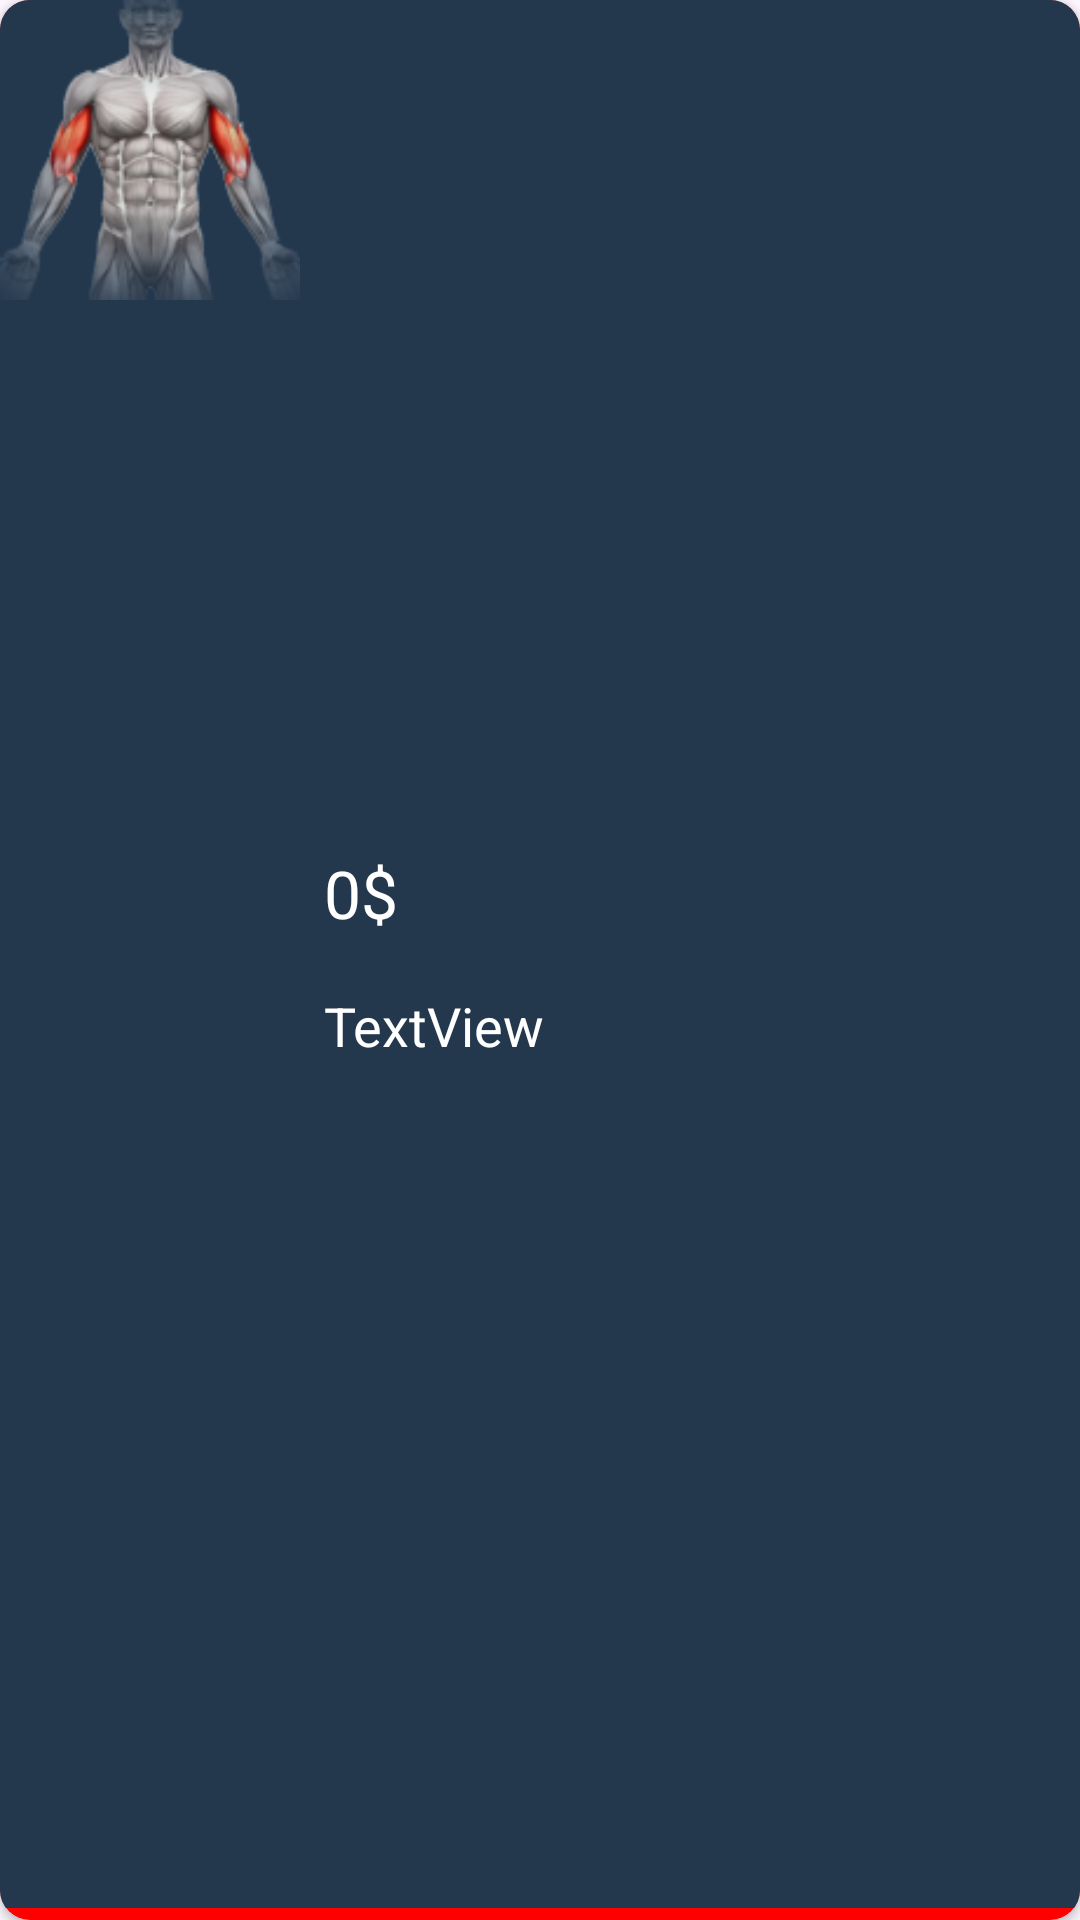

Where icons sit on this 1080×1920 app screen, as [x1,y1,x2,y2]:
Muscle Group Demo: [0,0,292,300]
